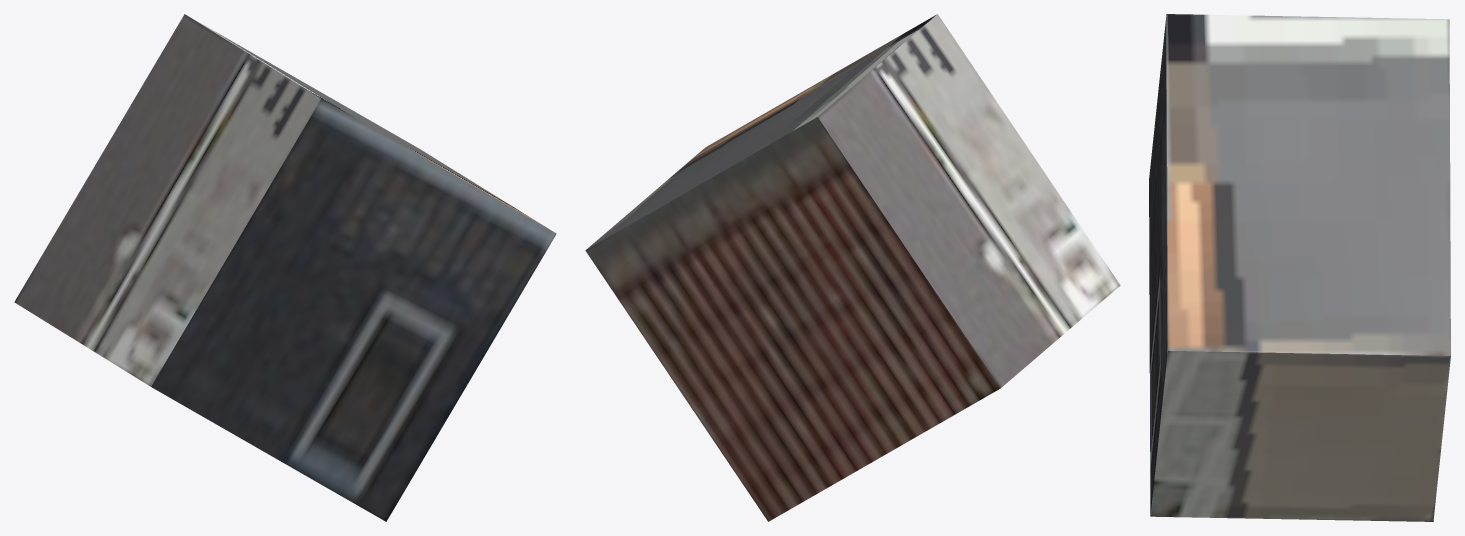
The picture shows the model from 3 angles, left to right: view 1: azimuth 30°, elevation 25°; view 2: azimuth 150°, elevation 25°; view 3: azimuth 270°, elevation 25°; orthographic projection. The views are drawn at different scales.
Parts seen in each view (by area): view 1: BAG_0599100100019952; view 2: BAG_0599100100019952; view 3: BAG_0599100100019952.
Part boxes in pixels (box(x1,y1,x2,y2)): BAG_0599100100019952: box(14, 14, 556, 521); BAG_0599100100019952: box(585, 14, 1120, 521); BAG_0599100100019952: box(1149, 14, 1450, 521).
Bounding box in the file's own units: 3.57 × 3.56 × 2.03.
1 material, 1 textured.
